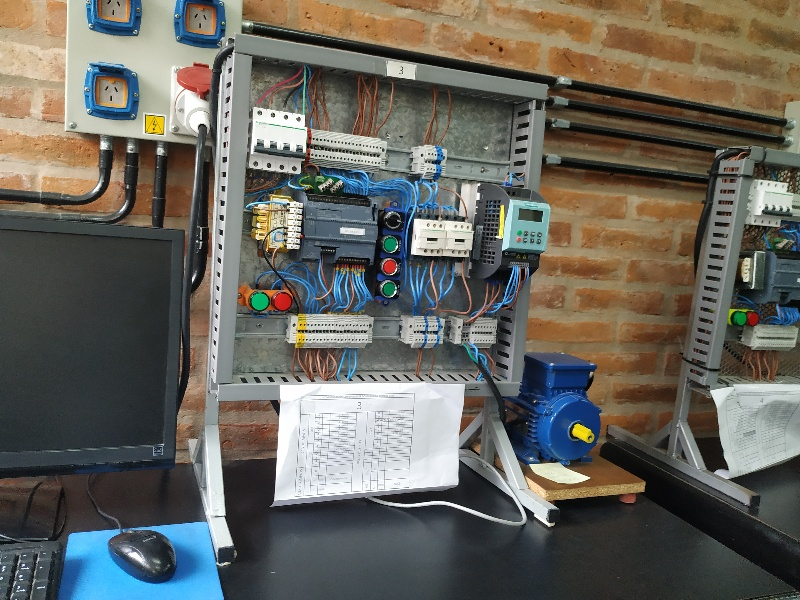Tablero 3: (243, 41, 554, 393)
